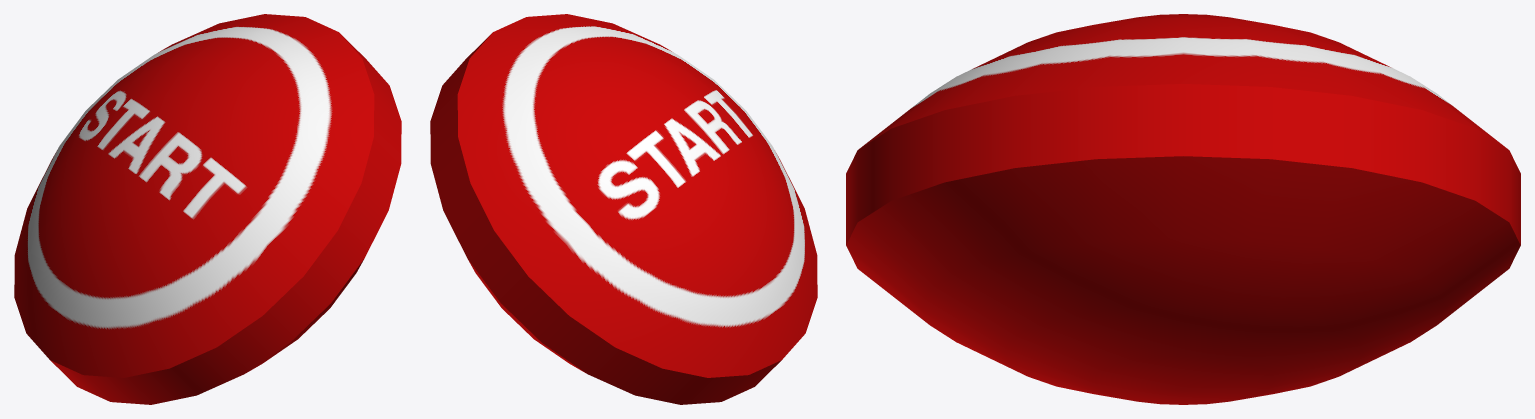
The model's file is button.dae.
The picture shows the model from 3 angles, left to right: view 1: azimuth 30°, elevation 25°; view 2: azimuth 150°, elevation 25°; view 3: azimuth 270°, elevation 25°; orthographic projection. The views are drawn at different scales.
Parts seen in each view (by area): view 1: Oil_Tank; view 2: Oil_Tank; view 3: Oil_Tank.
Part boxes in pixels (bbox=[...]): Oil_Tank: bbox=[14, 14, 401, 404]; Oil_Tank: bbox=[430, 14, 817, 404]; Oil_Tank: bbox=[846, 14, 1520, 404].
Size of the model in its own units: 75.04 by 65.99 by 90.
1 material, 1 textured.
